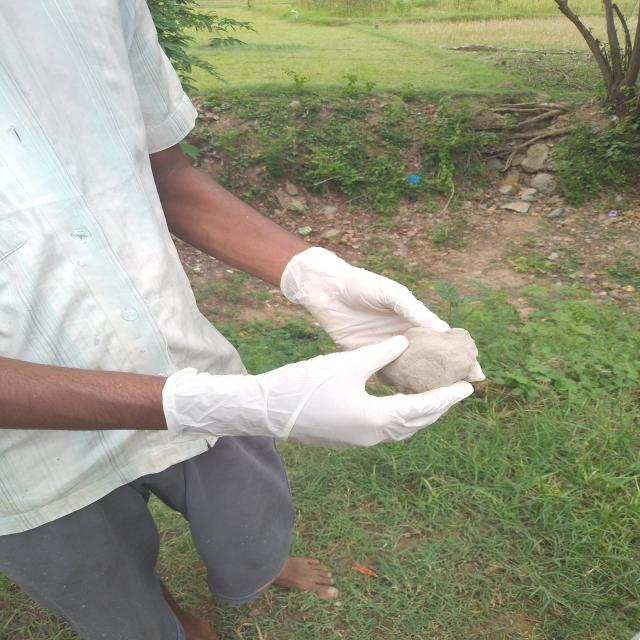glove: (157, 335, 519, 456), (269, 240, 486, 408)
